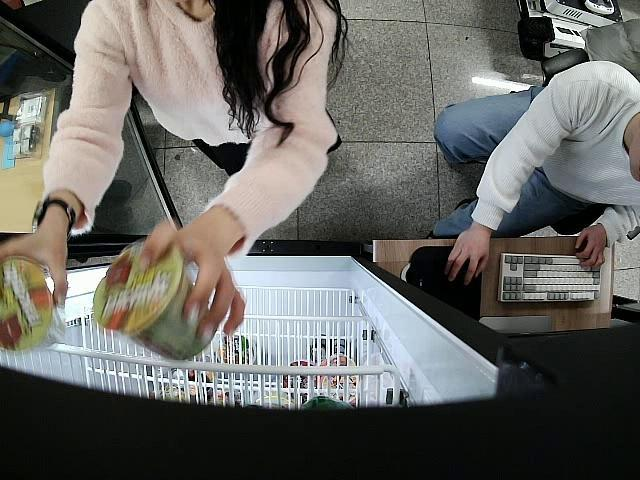04_chapagetti_S: (91, 238, 216, 358), (0, 258, 67, 353)
